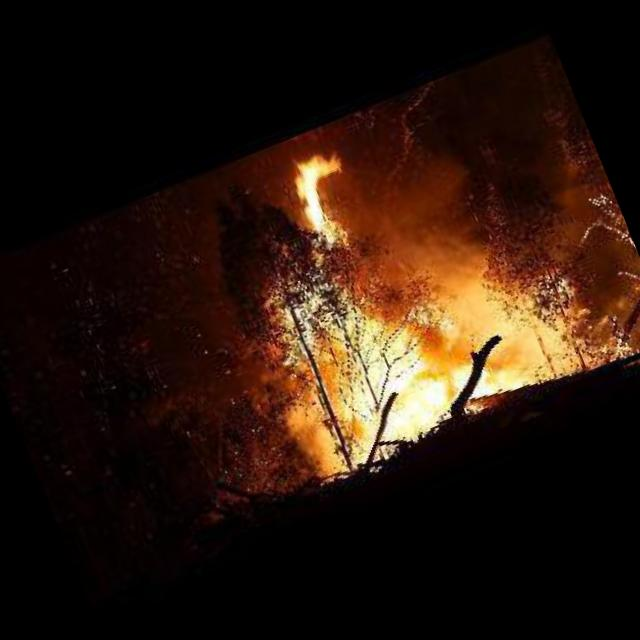fire: (252, 228, 603, 490), (282, 140, 366, 232)
